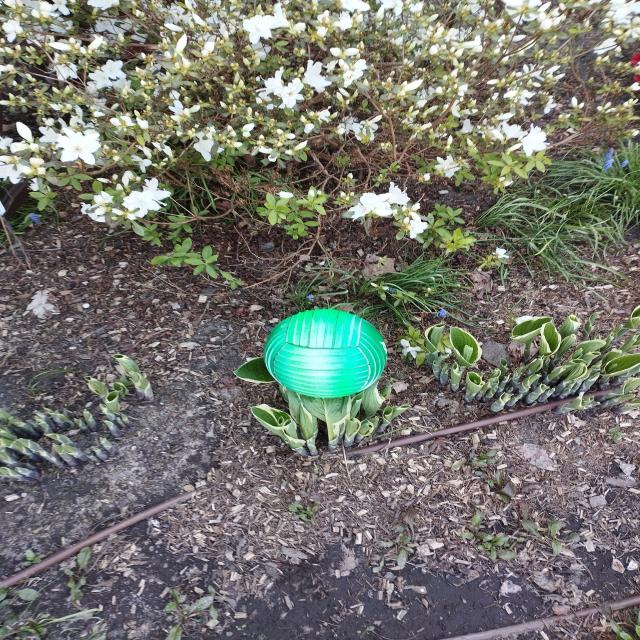zielona: (263, 308, 388, 397)
